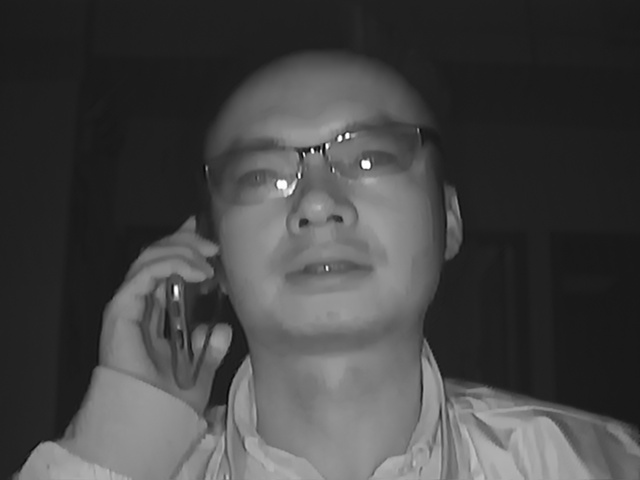hand: (102, 214, 228, 395)
